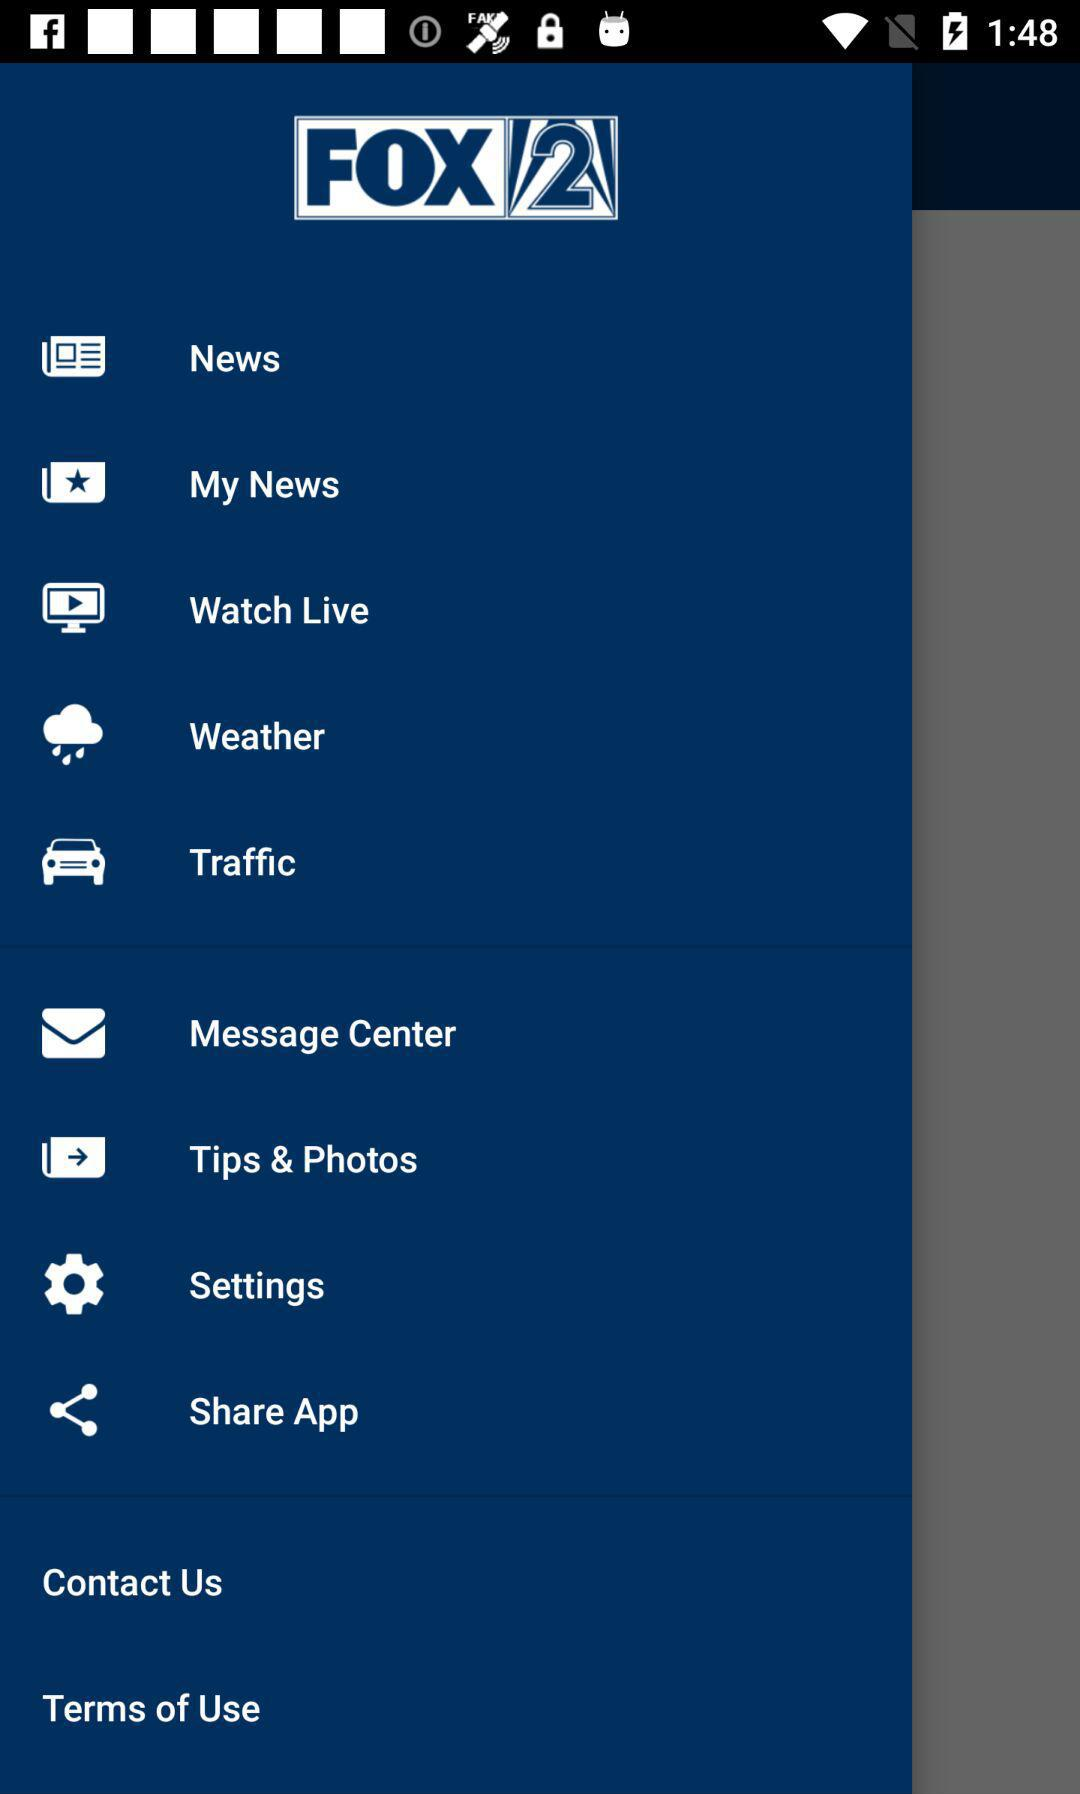Drawer: (1, 64, 912, 1794)
Icon: (44, 1253, 106, 1316), (42, 582, 108, 636), (42, 1008, 108, 1060), (41, 336, 108, 379), (42, 461, 108, 505), (42, 1137, 108, 1179), (50, 1383, 99, 1438)
Image: (293, 115, 619, 222), (44, 704, 105, 768), (42, 838, 108, 885)
Text: (191, 1019, 457, 1056), (190, 1144, 418, 1181), (42, 1691, 263, 1724), (190, 1395, 360, 1433), (190, 469, 341, 507), (190, 595, 370, 627), (44, 1567, 224, 1598), (190, 1270, 325, 1308), (190, 720, 327, 752), (190, 846, 297, 878), (190, 343, 281, 374)
UpperTaskBar: (1, 1, 1080, 64)
